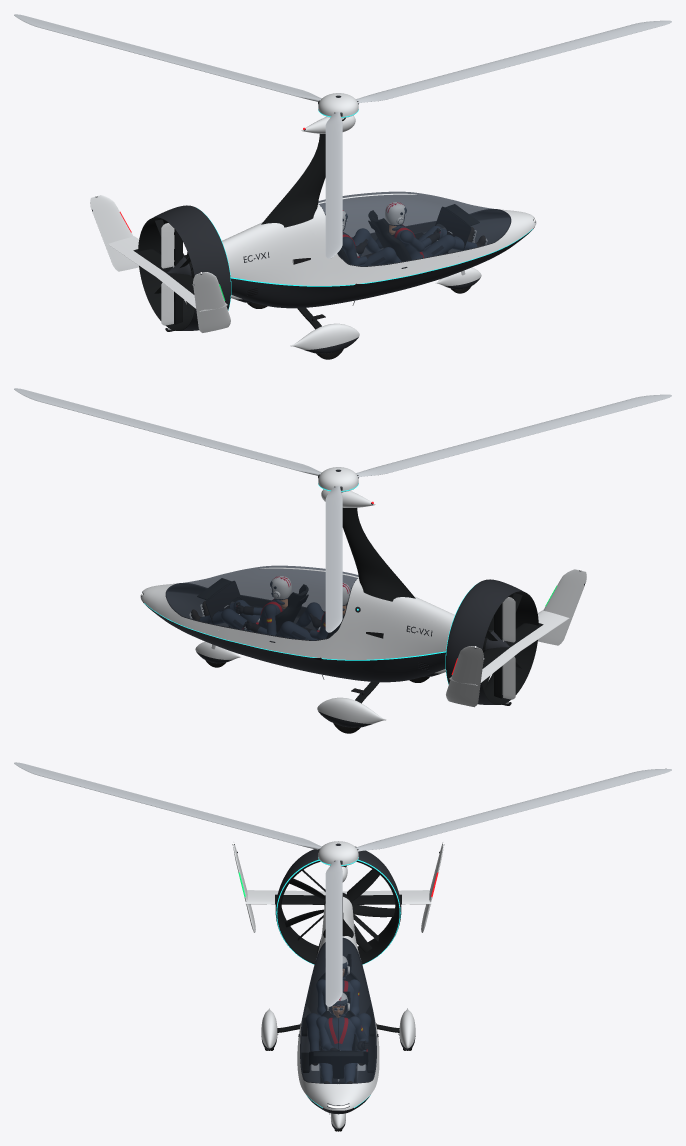
File: vencejo.glb
3 views of the same model, one above another, from view 1: azimuth 30°, elevation 25°; view 2: azimuth 150°, elevation 25°; view 3: azimuth 270°, elevation 25° (orthographic).
Visible parts, largest first — view 1: airframe, windscreen, rotor, pilot_rear, rudder, pilot_front, nose_wheel, panel_face; view 2: airframe, windscreen, rotor, pilot_rear, rudder, pilot_front, nose_wheel, panel_face; view 3: airframe, rotor, windscreen, prop, pilot_rear, pilot_front.
Boxes of the visible parts, box(x1,y1,x2,y2) form: airframe: box(90, 115, 536, 353); windscreen: box(318, 191, 510, 266); rotor: box(14, 14, 671, 258); pilot_rear: box(342, 210, 401, 266); rudder: box(161, 223, 174, 325); pilot_front: box(385, 202, 423, 259); nose_wheel: box(436, 267, 481, 293); panel_face: box(436, 207, 470, 253); airframe: box(140, 489, 586, 727); windscreen: box(166, 565, 358, 640); rotor: box(14, 388, 671, 632); pilot_rear: box(275, 582, 350, 640); rudder: box(502, 597, 515, 699); pilot_front: box(256, 576, 291, 628); nose_wheel: box(195, 641, 240, 667); panel_face: box(206, 581, 240, 627); airframe: box(232, 842, 444, 1114); rotor: box(14, 762, 671, 1006); windscreen: box(300, 938, 376, 1083); prop: box(284, 870, 395, 954); pilot_rear: box(305, 956, 371, 1065); pilot_front: box(324, 993, 355, 1050).
Bounding box in the file's own units: 7.03 × 2.89 × 7.62.
